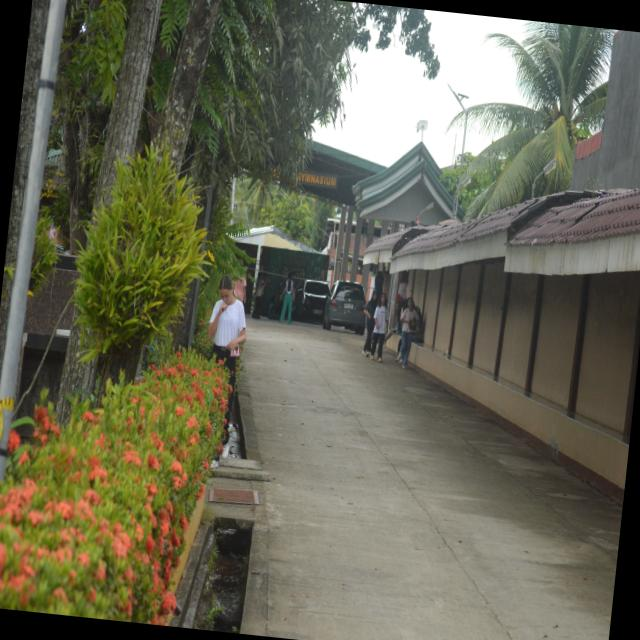person: (208, 276, 246, 444), (396, 298, 419, 368), (370, 293, 387, 362), (363, 290, 379, 357), (280, 273, 294, 324)
